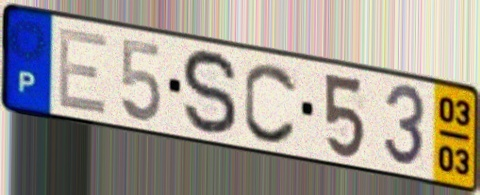3: (379, 81, 429, 172)
5: (322, 69, 369, 161), (119, 36, 164, 125)
C: (241, 59, 300, 147)
E: (55, 25, 110, 118)
S: (179, 47, 241, 139)
